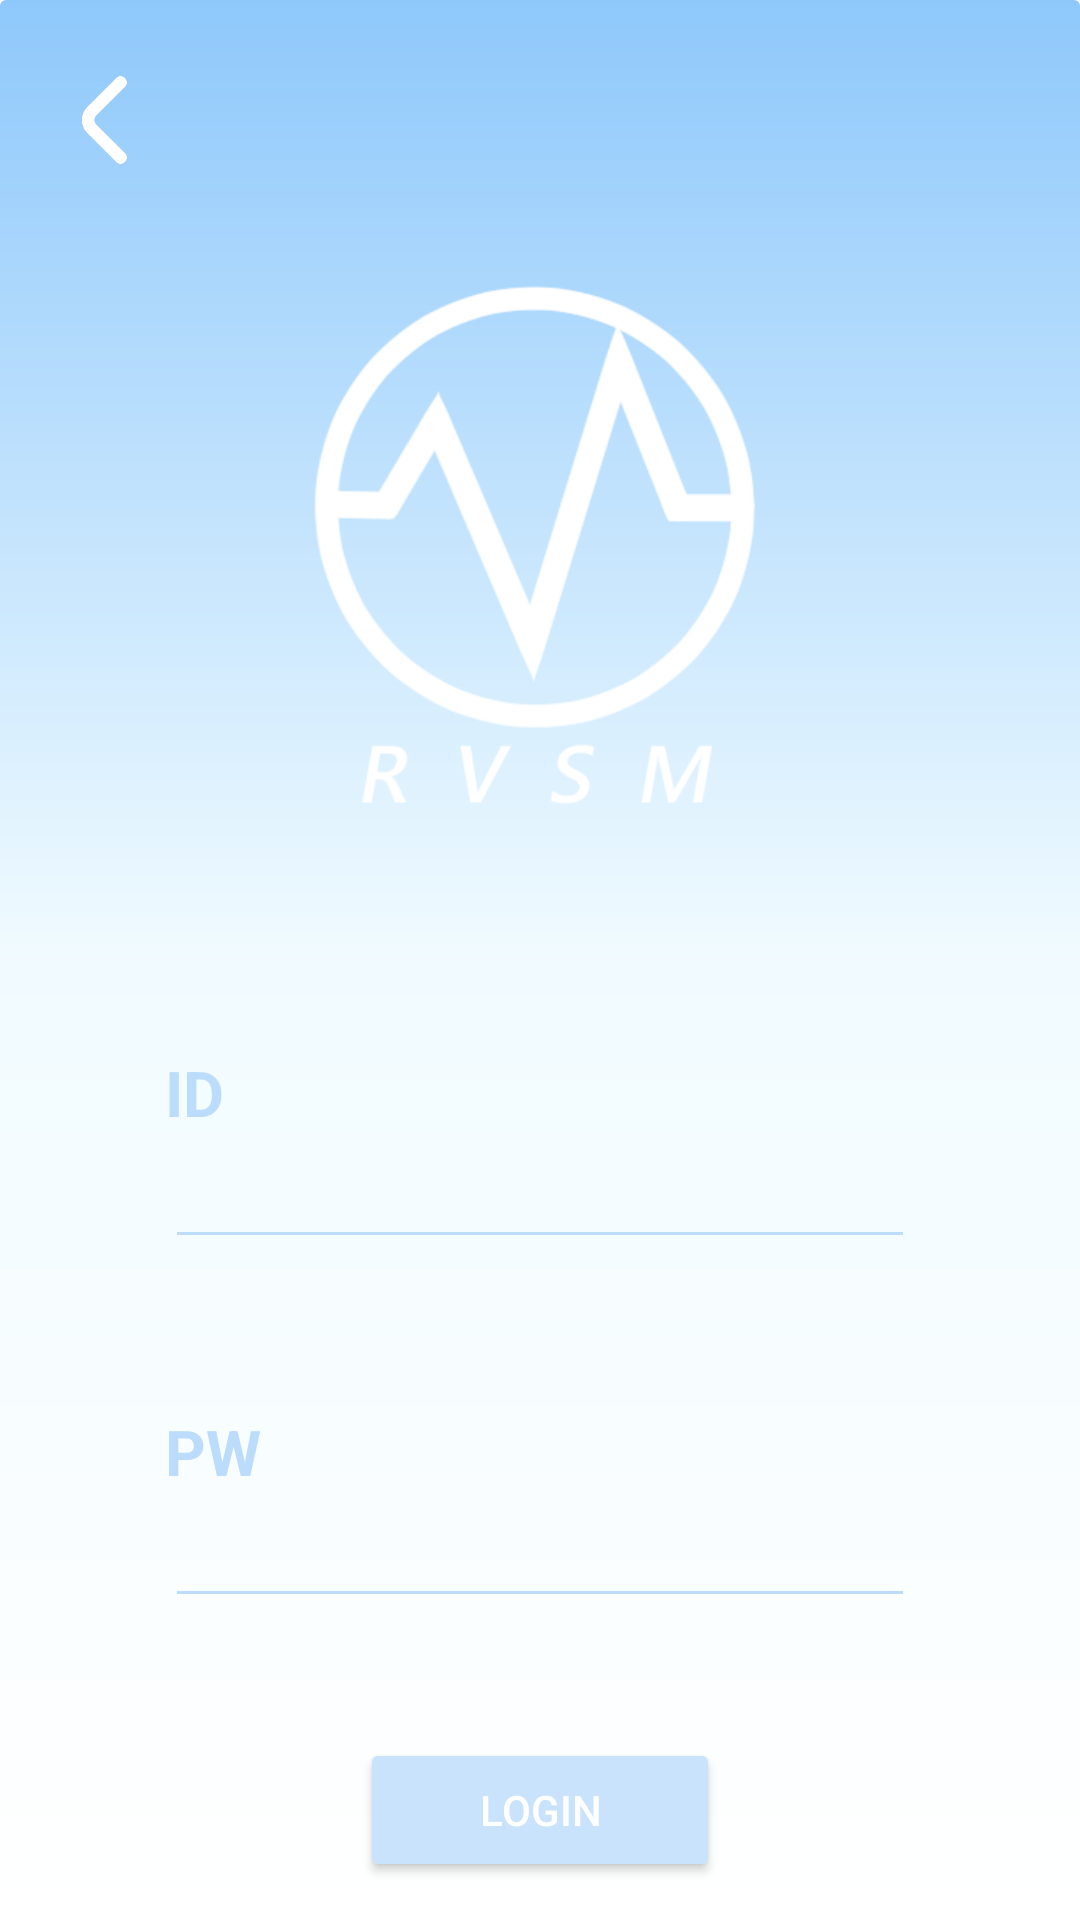

Named icons in this screenshot (1080 x 1920) and their centers, (x,y):
back: (104,120)
